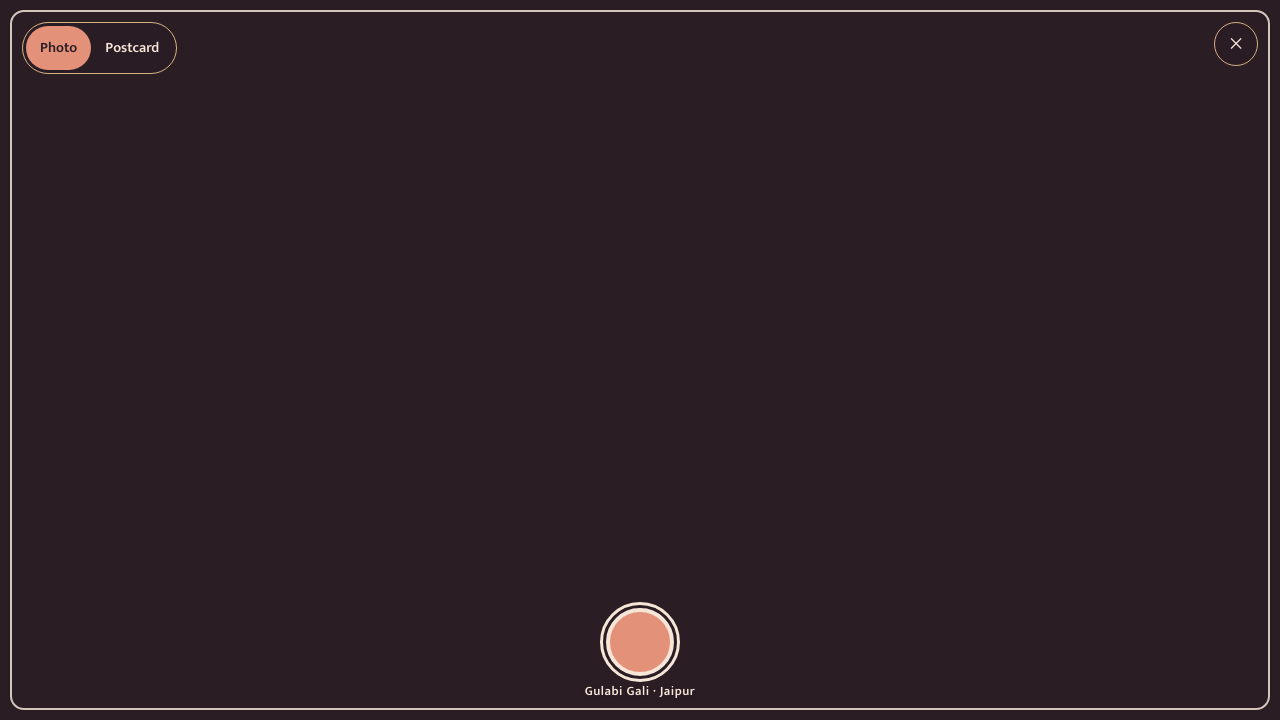
Test: a share sheet refused for a late tap keeps the picture, and "Share" offers it to a fresh tap
Click the button named "Take photo". click: [640, 642]
box: x1=606 y1=608 x2=674 y2=676
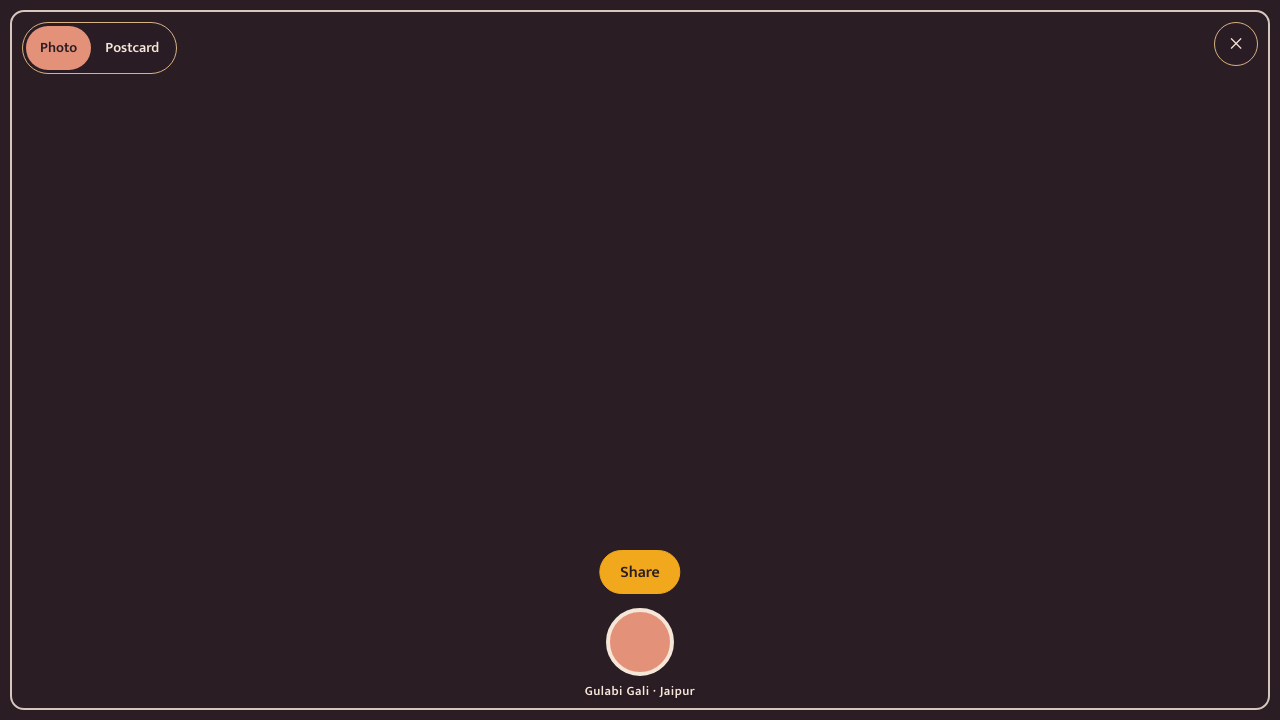
Expected: the button "Share" is shown
Click the button "Share". click: [640, 572]
box: x1=599 y1=550 x2=681 y2=594
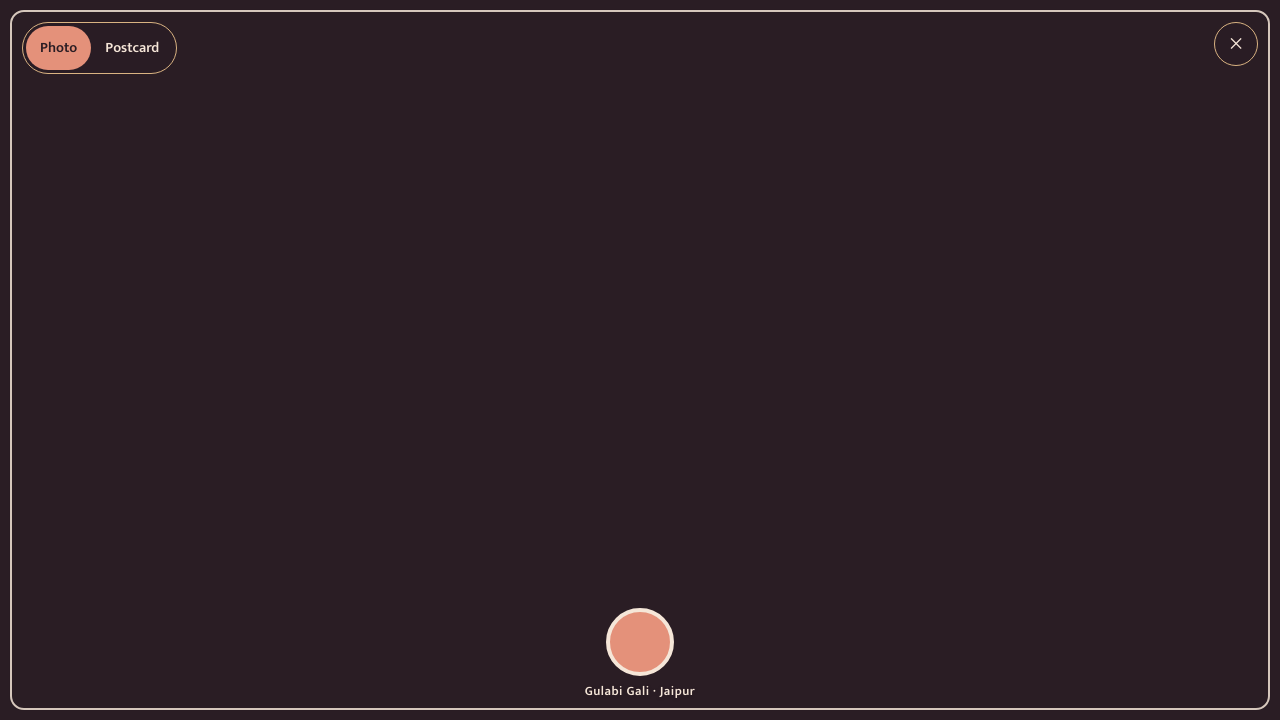
Expected: the button "Share" is gone
